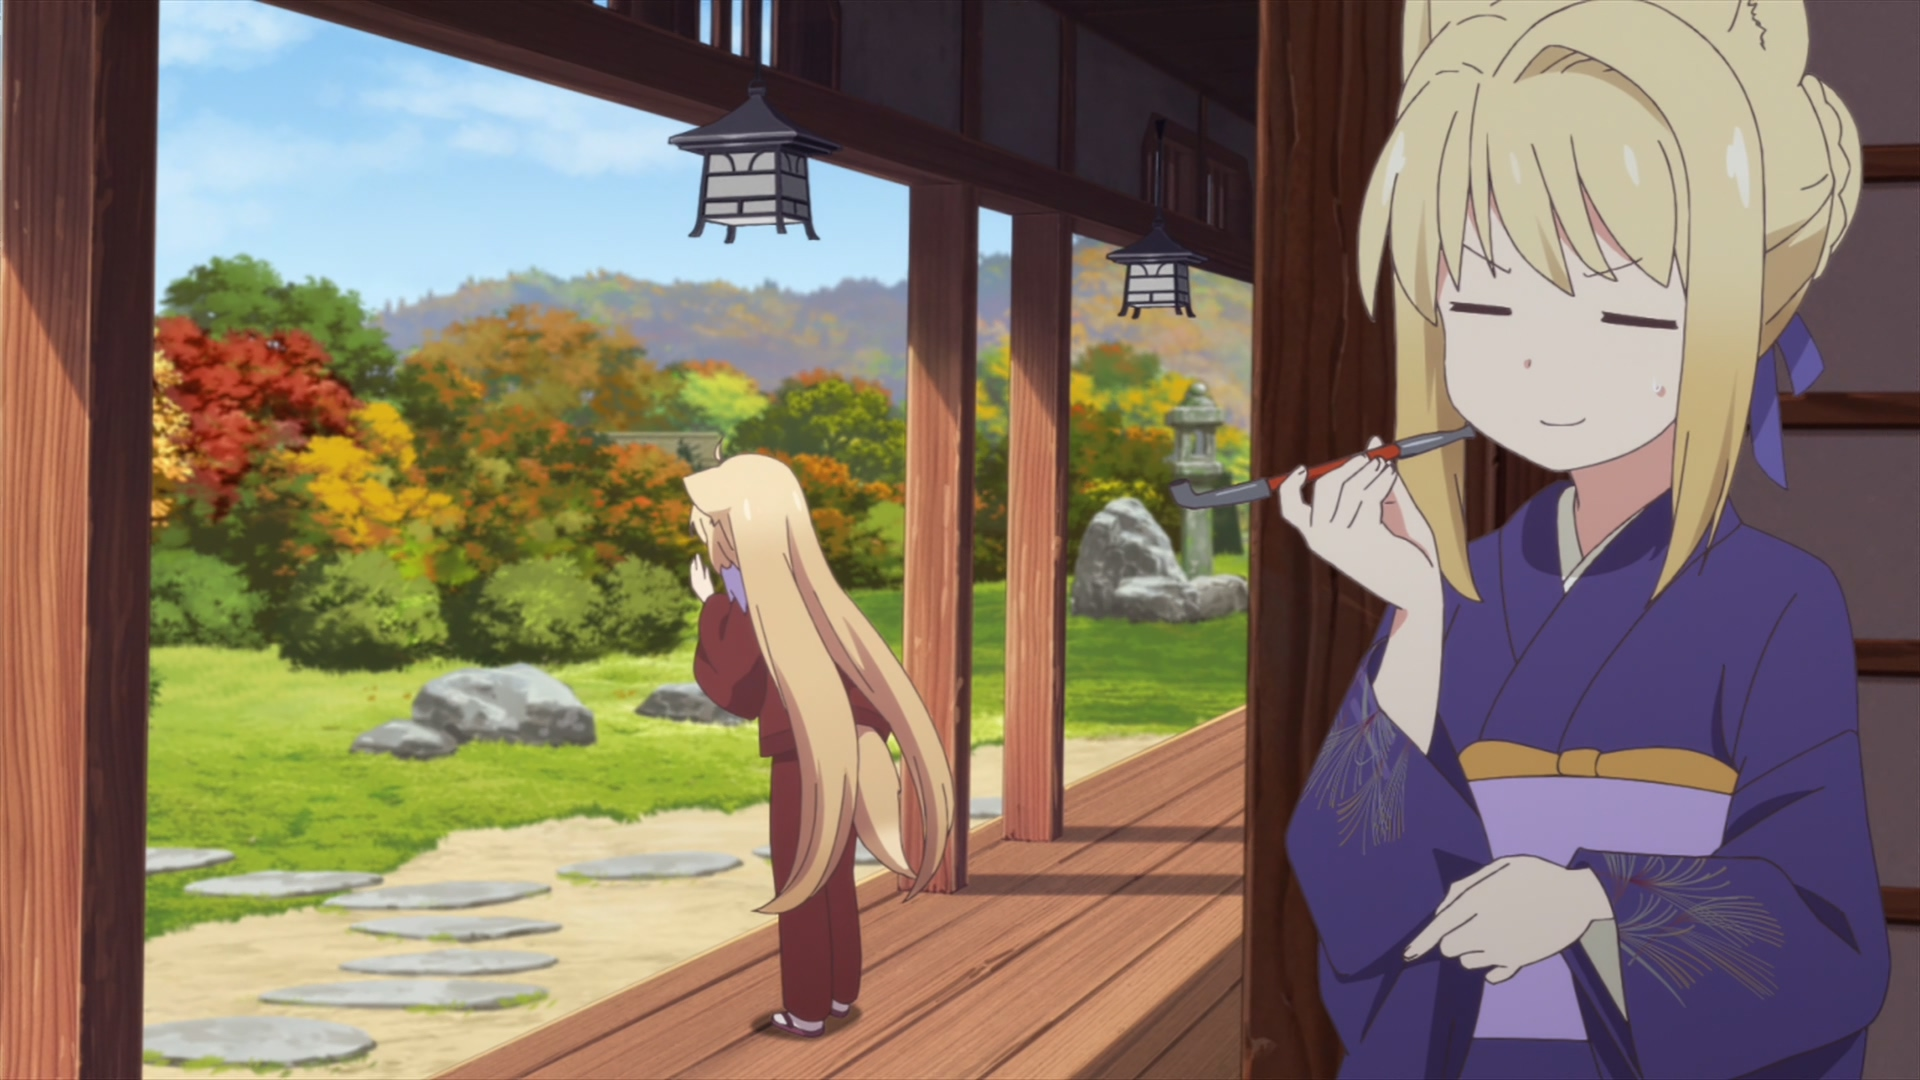柚: (683, 436, 953, 1040)
桐: (1279, 1, 1890, 1080)
皋: (717, 556, 748, 609)
